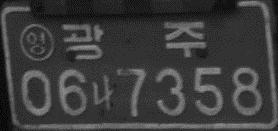0: (20, 68, 53, 116)
3: (154, 66, 187, 117)
5: (193, 66, 225, 117)
6: (56, 68, 88, 117)
7: (117, 68, 148, 116)
8: (231, 65, 263, 117)
광주_D: (60, 21, 206, 61)
나: (91, 74, 116, 109)
영: (18, 22, 56, 62)
